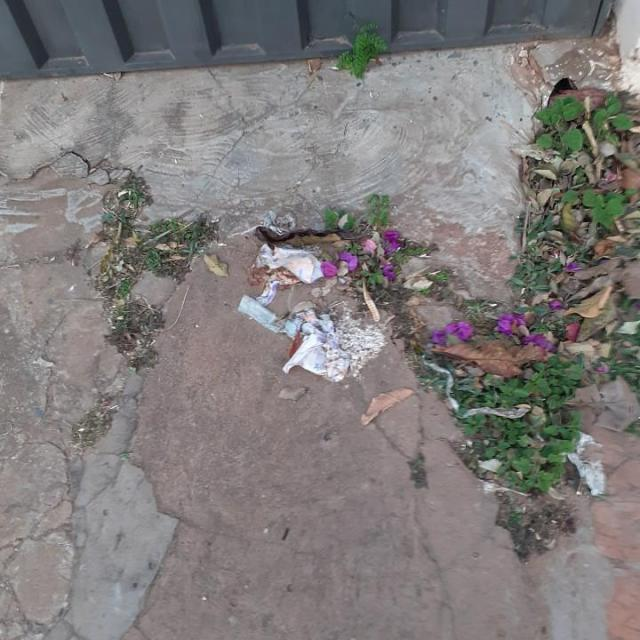litter: (261, 298, 369, 410), (245, 239, 334, 288)
